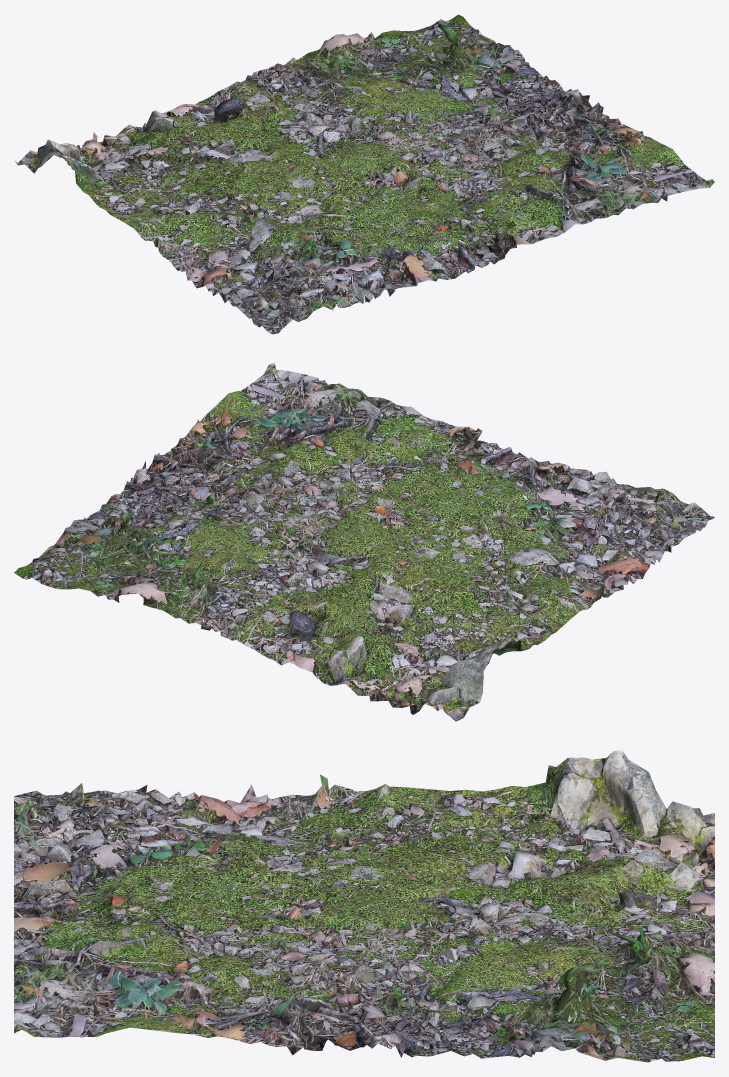
File: ground_moss_1_10k.FBX
The picture shows the model from 3 angles, top to bottom: view 1: azimuth 30°, elevation 25°; view 2: azimuth 150°, elevation 25°; view 3: azimuth 270°, elevation 25°; orthographic projection. The views are drawn at different scales.
Visible parts, largest first — view 1: ground_moss_1-10k; view 2: ground_moss_1-10k; view 3: ground_moss_1-10k.
Boxes of the visible parts, left/top/right/bottom form: ground_moss_1-10k: left=15, top=14, right=714, bottom=334; ground_moss_1-10k: left=14, top=363, right=714, bottom=721; ground_moss_1-10k: left=14, top=750, right=714, bottom=1062.
Size of the model in its own units: 4830 by 891 by 4830.
1 material, 1 textured.
